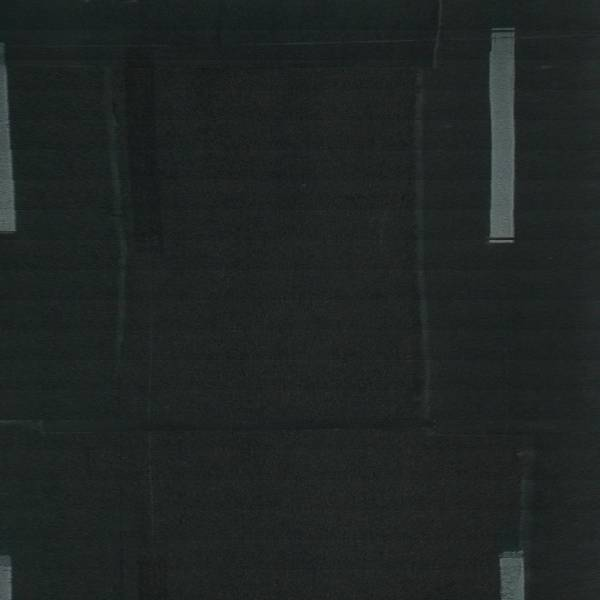road_damage: (131, 25, 448, 74), (91, 55, 134, 379), (31, 416, 551, 440), (410, 81, 439, 438)
